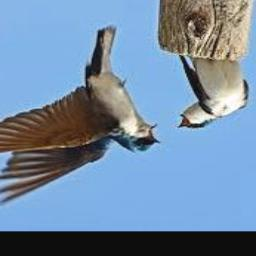Swallow: (0, 25, 161, 205), (179, 55, 250, 130)
